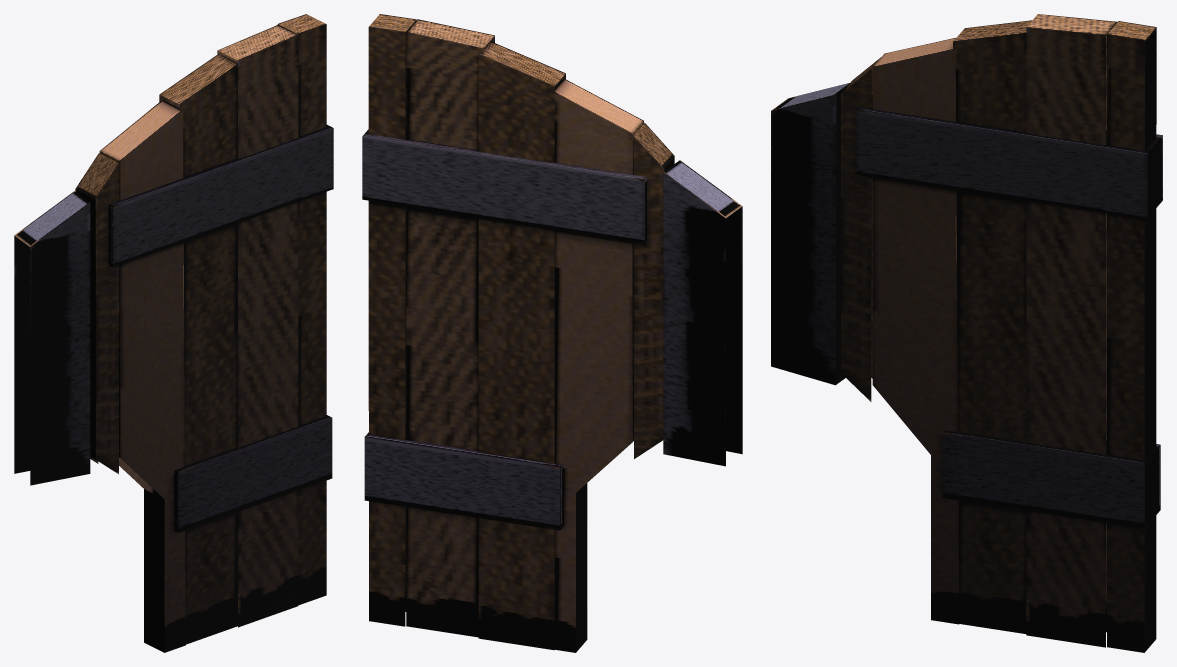
Rendered from DoorSide2F1.obj.
3 views of the same model, side by side, from view 1: azimuth 30°, elevation 25°; view 2: azimuth 150°, elevation 25°; view 3: azimuth 330°, elevation 25° (orthographic). The views are drawn at different scales.
Visible parts, largest first — view 1: DoorSide2F1_Cube.002; view 2: DoorSide2F1_Cube.002; view 3: DoorSide2F1_Cube.002.
Part boxes in pixels (<box>): DoorSide2F1_Cube.002: <box>14,14,333,652</box>; DoorSide2F1_Cube.002: <box>362,14,742,652</box>; DoorSide2F1_Cube.002: <box>771,14,1162,652</box>.
Bounding box in the file's own units: 107 × 179 × 26.68.
Materials: 1 (1 with a texture image).
